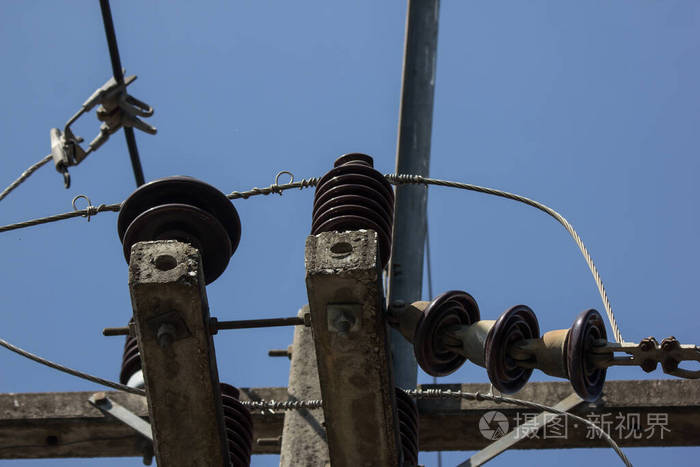insulator: (415, 291, 606, 400)
